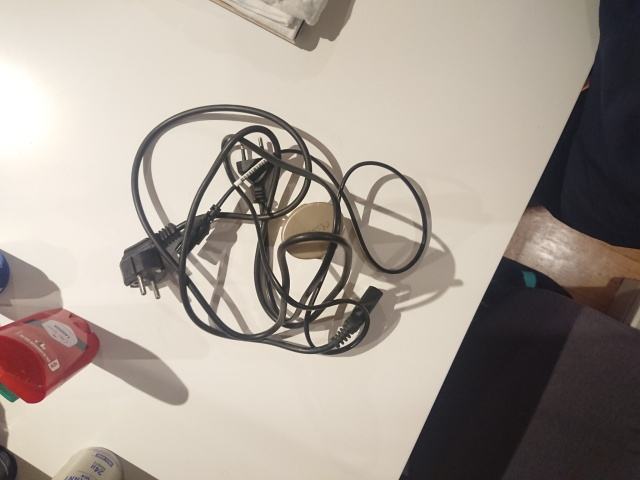Kotanyi Garlic Granules 70g: (279, 200, 347, 261)
